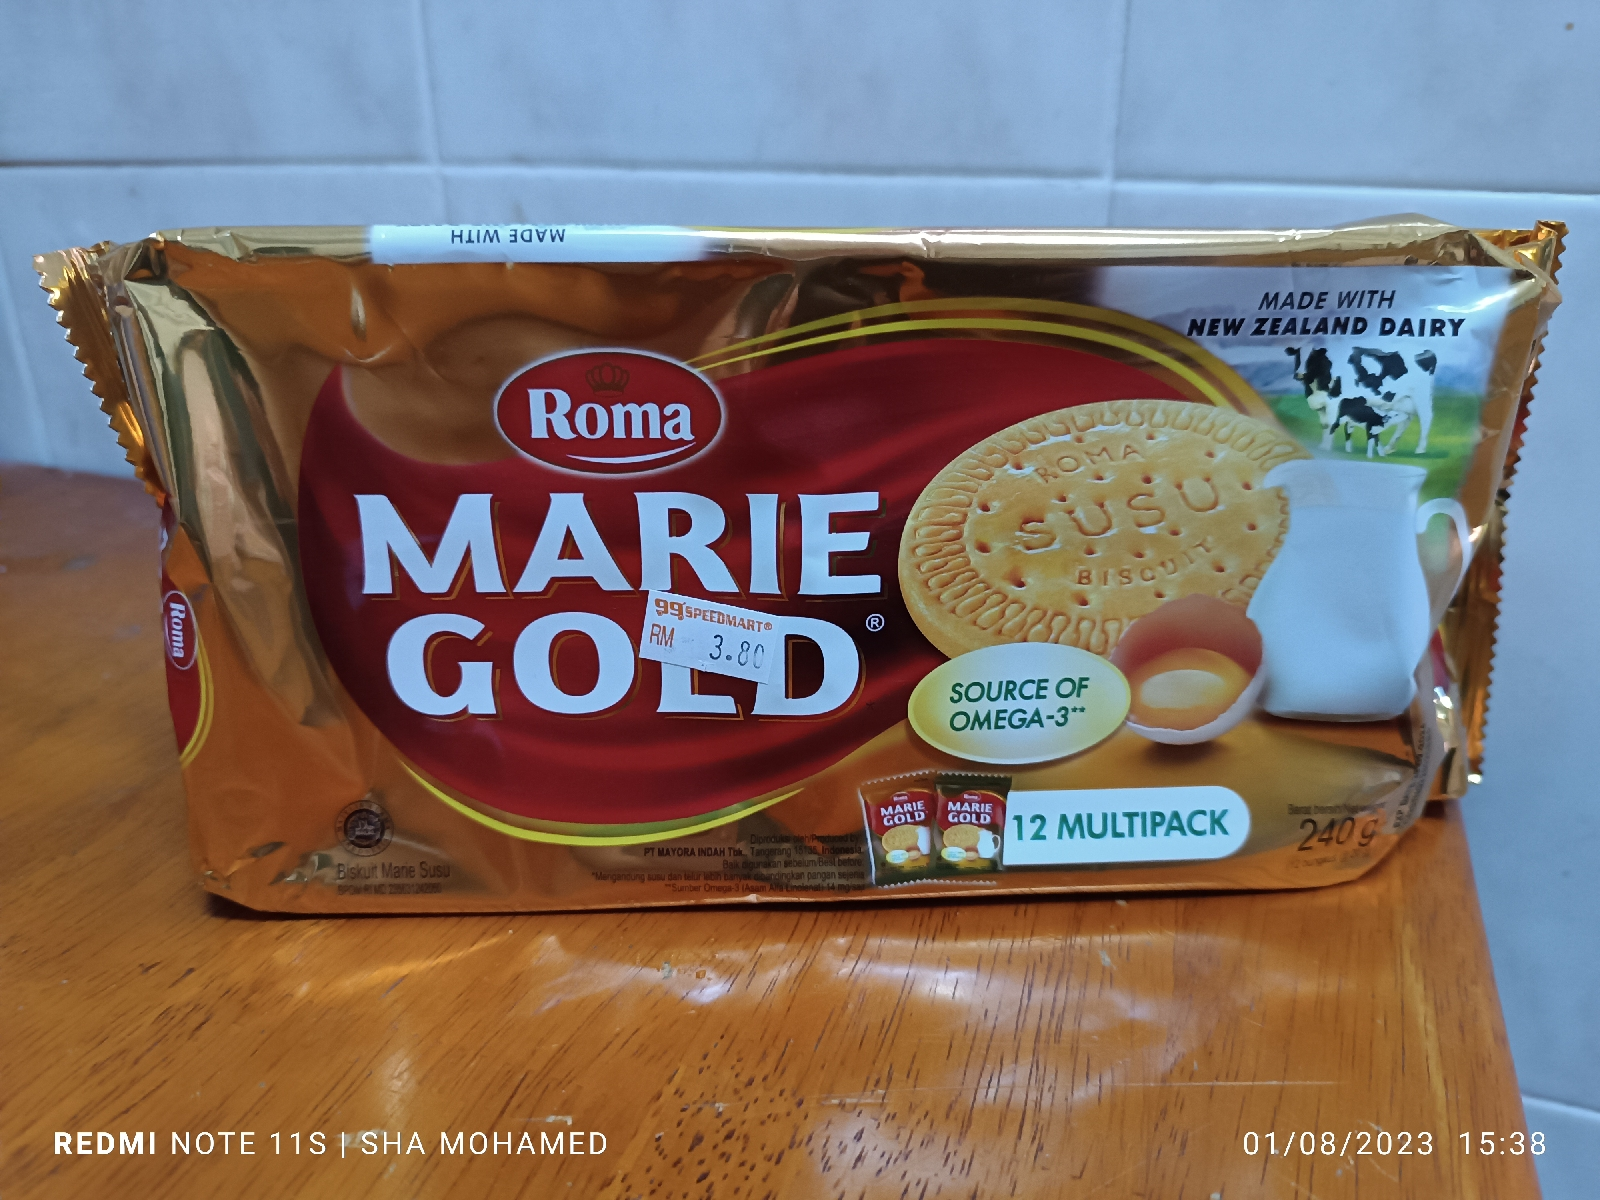Roma Marie Gold (240g): (29, 203, 1571, 942)
